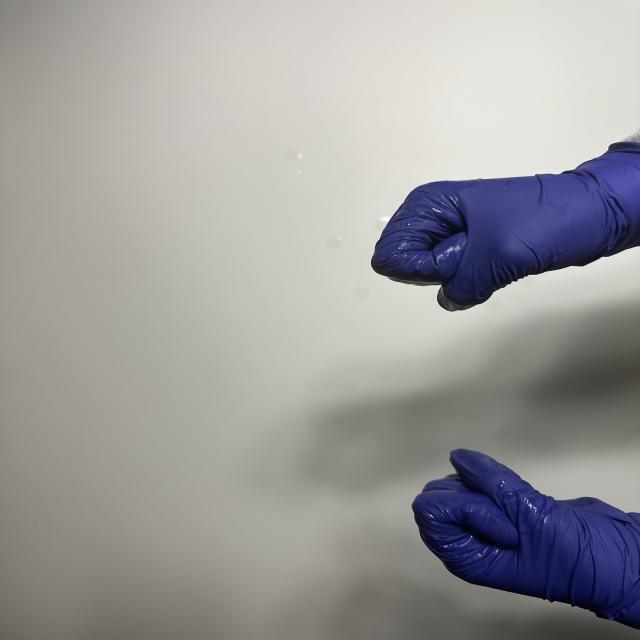gloves_contaminated: (371, 140, 640, 311), (413, 449, 640, 628)
